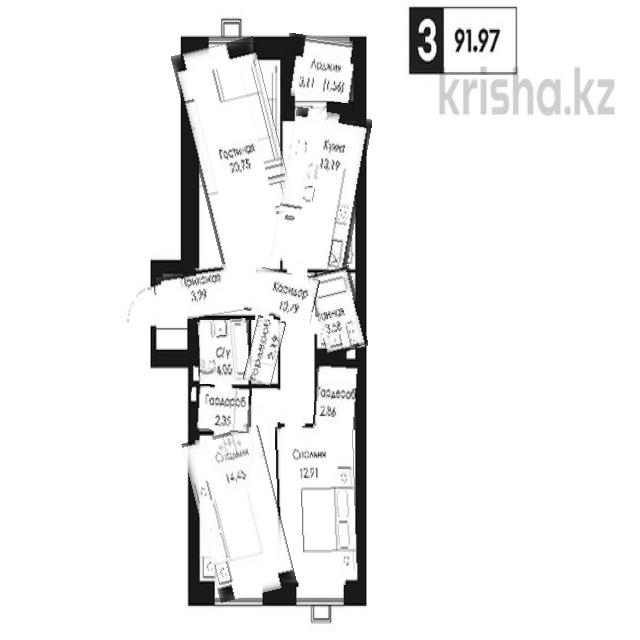balcony: (283, 35, 361, 102)
bathroom: (312, 267, 364, 354), (199, 320, 252, 384)
hallway: (154, 263, 252, 320), (246, 268, 318, 322)
kitchen: (277, 109, 366, 270)
living_room: (183, 40, 294, 269), (191, 428, 288, 600), (276, 426, 358, 587)
other: (314, 359, 360, 430), (246, 316, 283, 386), (196, 386, 252, 432)
